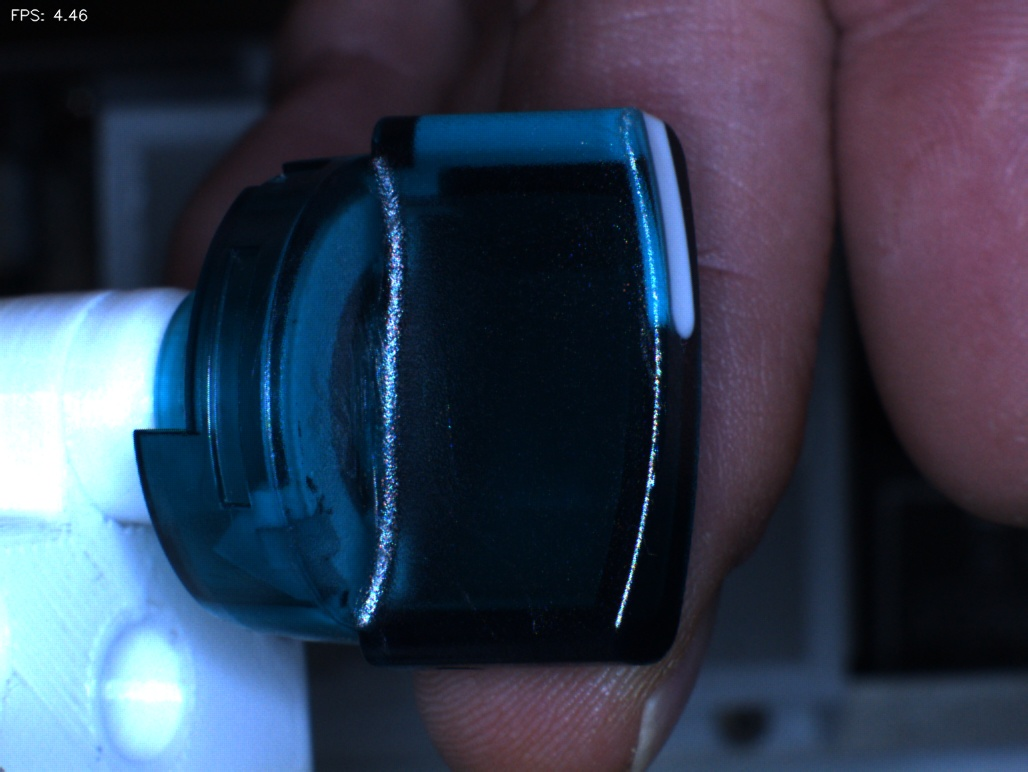Givrage: (417, 360, 555, 650)
